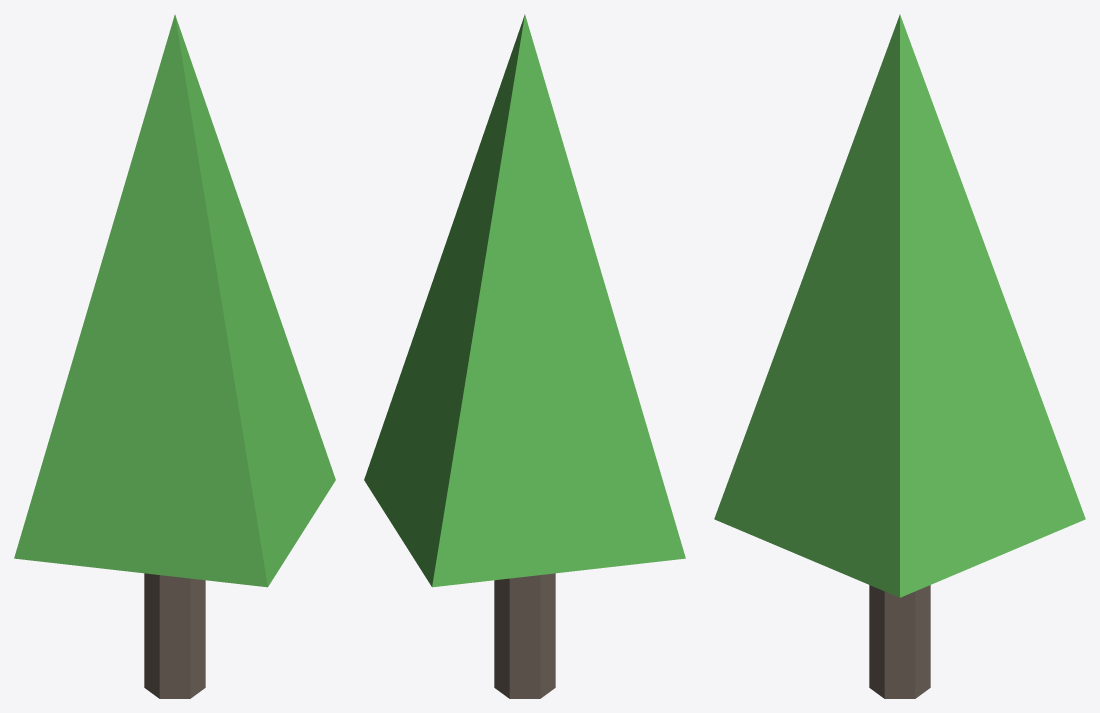
File: FirTree1.fbx
The picture shows the model from 3 angles, left to right: view 1: azimuth 30°, elevation 25°; view 2: azimuth 150°, elevation 25°; view 3: azimuth 270°, elevation 25°; orthographic projection.
Parts seen in each view (by area): view 1: Cylinder; view 2: Cylinder; view 3: Cylinder.
Part boxes in pixels (bbox=[...]): Cylinder: bbox=[14, 14, 335, 698]; Cylinder: bbox=[364, 14, 685, 698]; Cylinder: bbox=[714, 14, 1085, 698].
Size of the model in its own units: 2 by 4 by 2.
